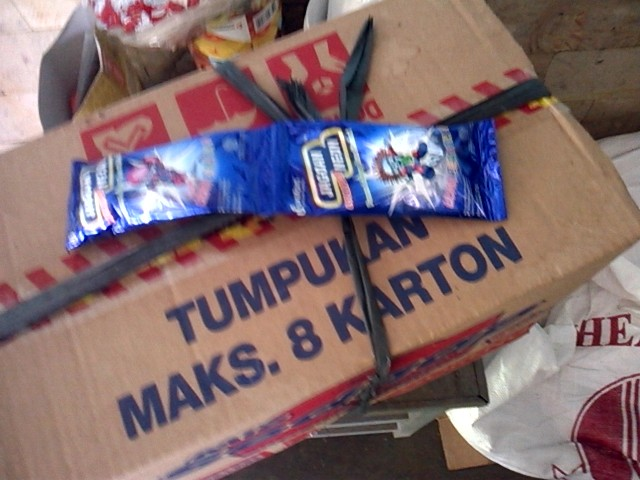jagoan neon: (69, 128, 266, 252), (265, 122, 505, 221)
